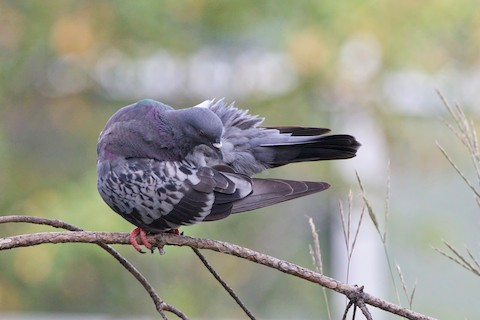pigeon: (93, 93, 364, 256)
